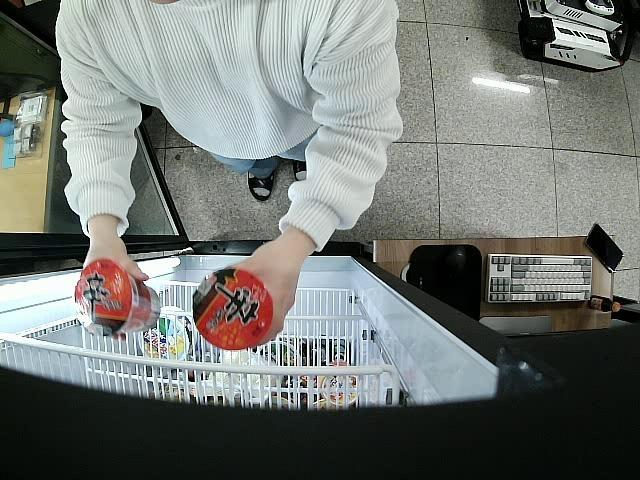02_shinRamen_S: (70, 259, 163, 340), (193, 270, 274, 349)
